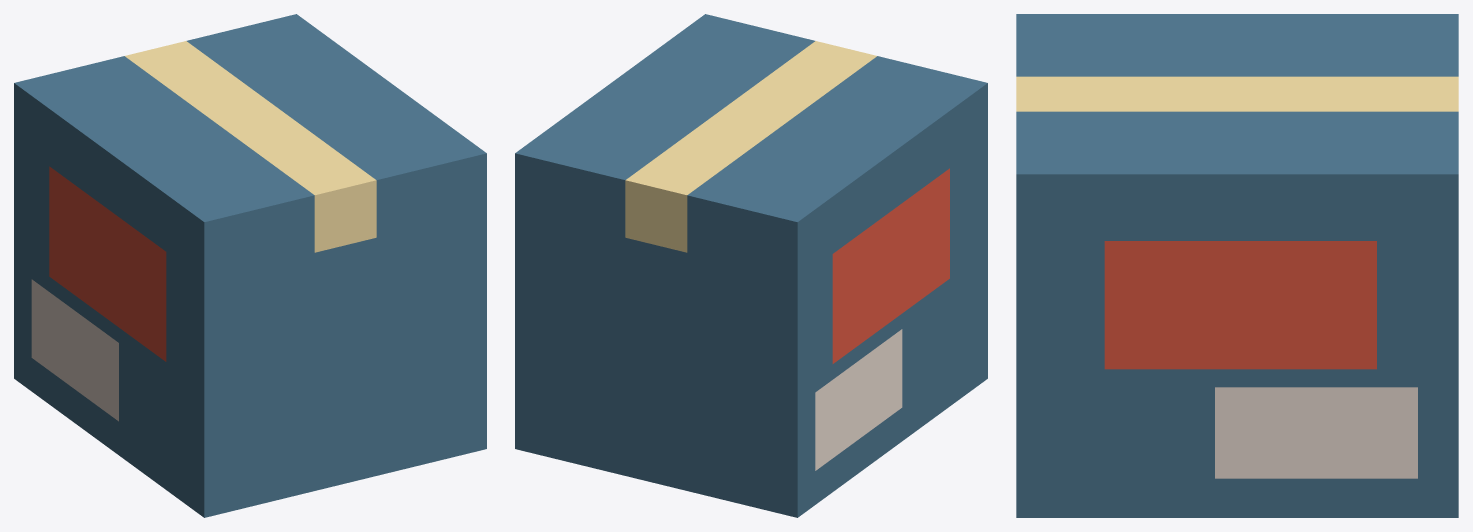
The model's file is Blue_Return_Box.fbx.
3 renders of one model, left to right at view 1: azimuth 30°, elevation 25°; view 2: azimuth 150°, elevation 25°; view 3: azimuth 270°, elevation 25°, orthographic. The views are drawn at different scales.
Visible parts, largest first — view 1: Blue_Return_Box; view 2: Blue_Return_Box; view 3: Blue_Return_Box.
Boxes of the visible parts, x1,y1,x2,y2 form: Blue_Return_Box: [14, 14, 486, 517]; Blue_Return_Box: [515, 14, 987, 517]; Blue_Return_Box: [1016, 14, 1458, 517].
Size of the model in its own units: 30 by 30 by 35.
